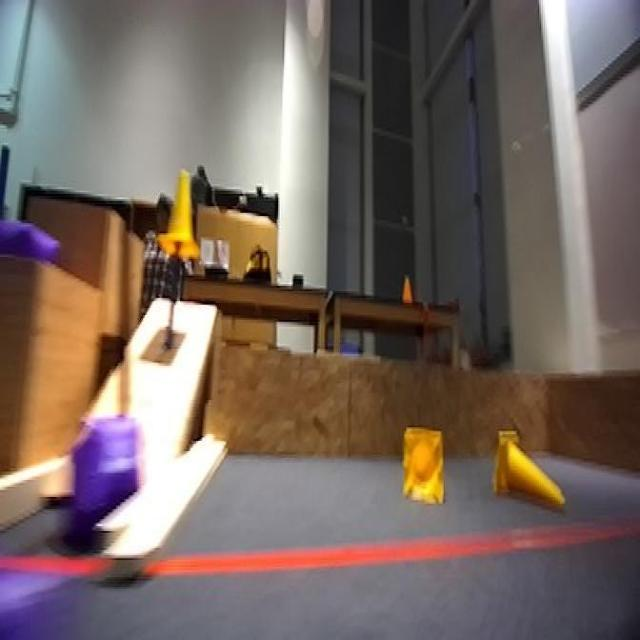frc_cone: (491, 428, 576, 518), (159, 165, 207, 267), (400, 429, 450, 505)
frc_cube: (57, 398, 128, 548), (0, 536, 60, 640), (0, 216, 55, 271)
